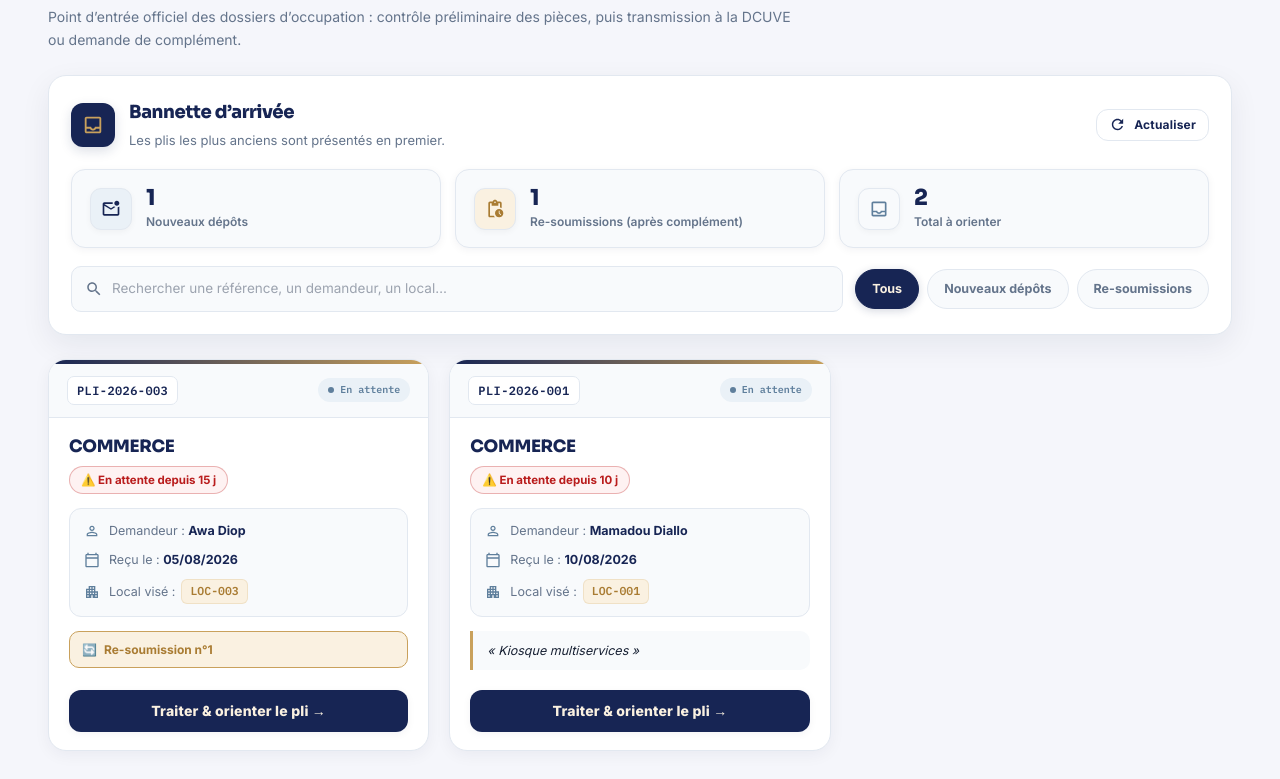
Scenario: BureauCourrierView › masque l option rejet direct si le dossier a 1 ou 0 renvoi
(page scrolled)
Expected: the text "PLI-2026-001" is shown, x1=468 y1=376 x2=580 y2=405
Step 1. Click the button "Traiter & orienter le pli →" below "Re-soumission n°" → point(239, 711), box x1=69 y1=690 x2=408 y2=732
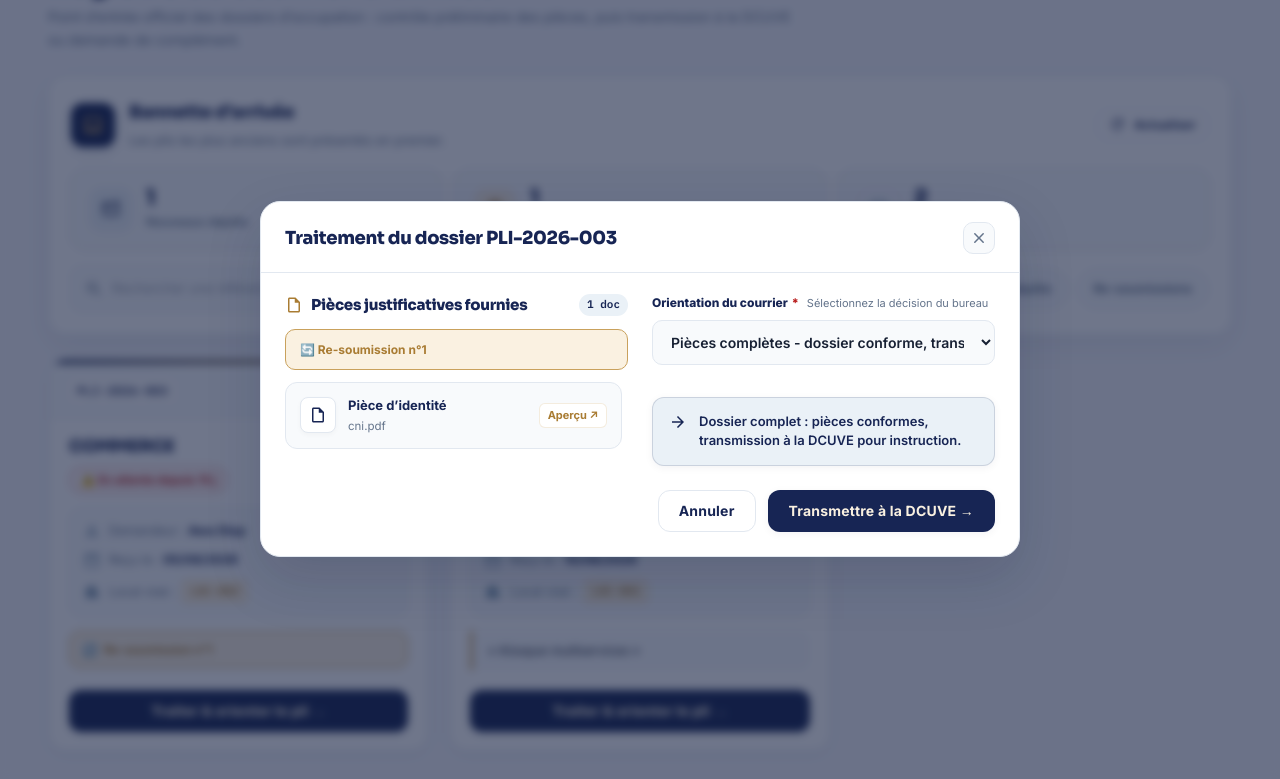
Now the heading "Traitement du dossier PLI-2026-003" is shown, box x1=285 y1=224 x2=617 y2=253
